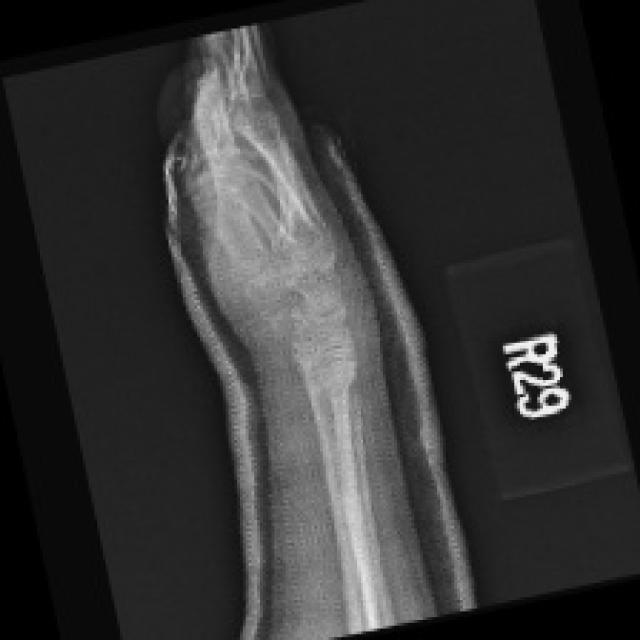fracture: (277, 262, 411, 400)
